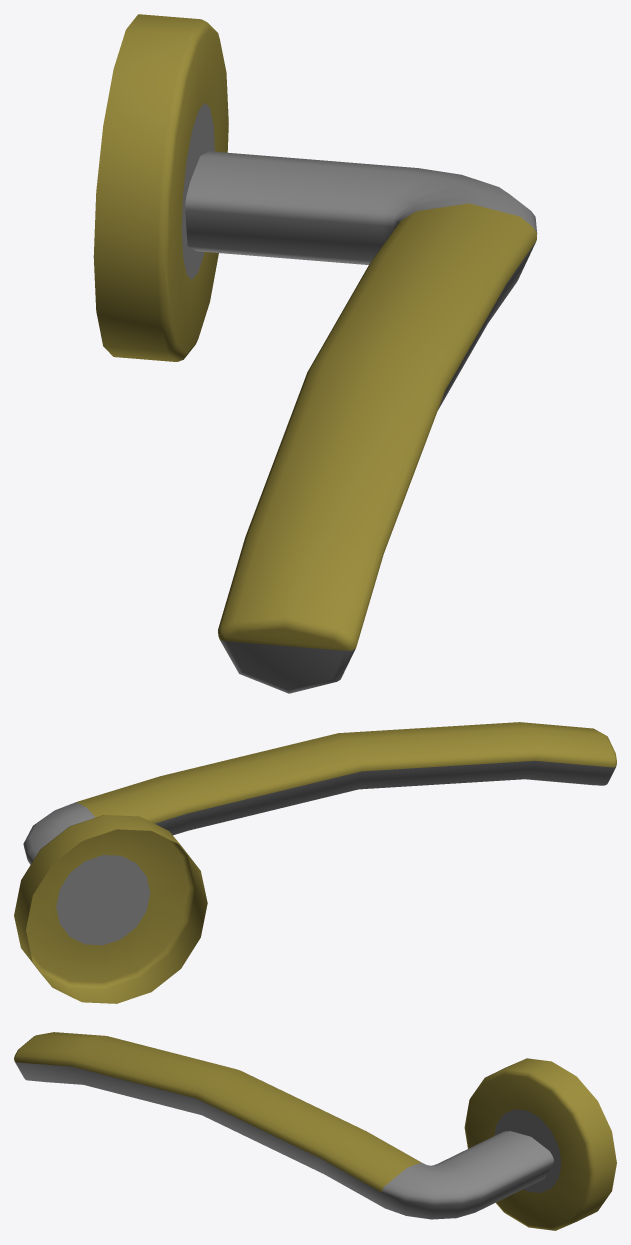
The picture shows the model from 3 angles, top to bottom: view 1: azimuth 30°, elevation 25°; view 2: azimuth 150°, elevation 25°; view 3: azimuth 270°, elevation 25°; orthographic projection. The views are drawn at different scales.
Visible parts, largest first — view 1: part4:handle (×2); view 2: part4:handle (×2); view 3: part4:handle (×2).
Part boxes in pixels (x1=…): part4:handle (×2): x1=93, y1=14, x2=537, y2=693; part4:handle (×2): x1=14, y1=722, x2=616, y2=1003; part4:handle (×2): x1=14, y1=1032, x2=616, y2=1230.
Bounding box in the file's own units: 0.1258 × 0.056 × 0.1962.
